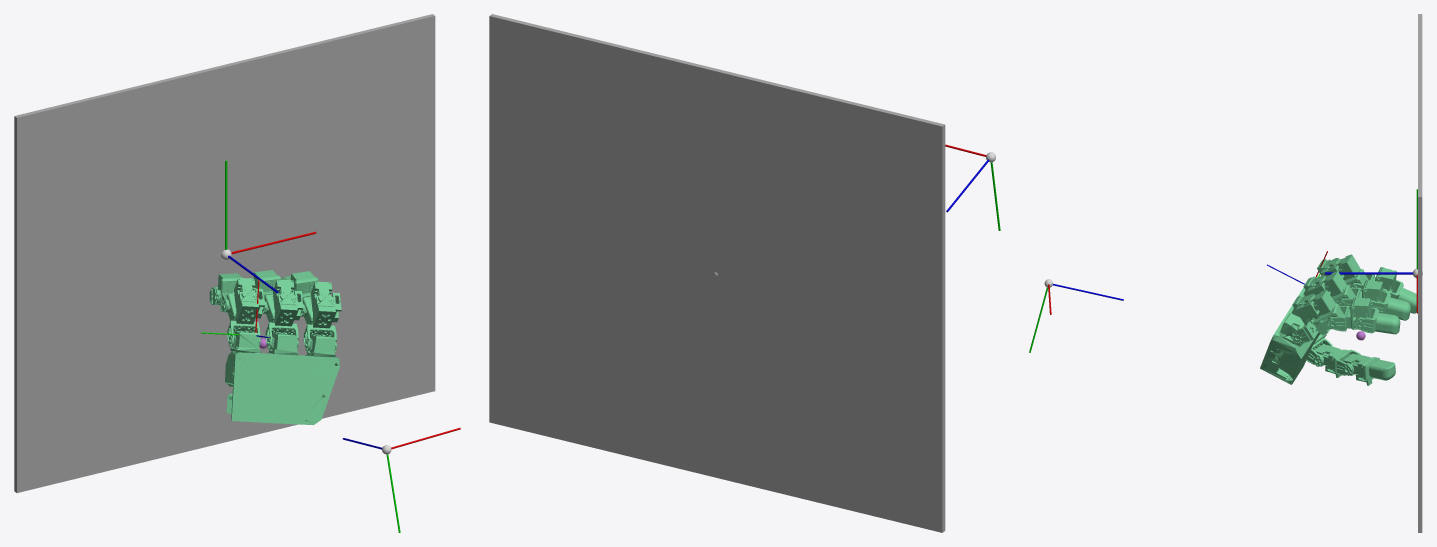
The model's file is prediction_view_0000.glb.
The picture shows the model from 3 angles, left to right: view 1: azimuth 30°, elevation 25°; view 2: azimuth 150°, elevation 25°; view 3: azimuth 270°, elevation 25°; orthographic projection. The views are drawn at different scales.
Visible parts, largest first — view 1: table_z_0, prediction_hand_base_link, prediction_mcp_joint_3, prediction_mcp_joint_2, prediction_mcp_joint, world_frame, camera_frame, prediction_dip, prediction_dip_3; view 2: table_z_0; view 3: table_z_0, prediction_hand_base_link, prediction_mcp_joint_3, prediction_thumb_fingertip, prediction_dip_3, prediction_thumb_dip, prediction_fingertip_3, prediction_mcp_joint_2, prediction_mcp_joint, prediction_fingertip_2, prediction_dip_2, world_frame (+1 smaller).
Boxes of the visible parts, x1,y1,x2,y2 form: table_z_0: [14, 14, 435, 492]; prediction_hand_base_link: [225, 332, 339, 425]; prediction_mcp_joint_3: [303, 281, 341, 351]; prediction_mcp_joint_2: [265, 279, 303, 349]; prediction_mcp_joint: [227, 278, 264, 347]; world_frame: [221, 160, 316, 293]; camera_frame: [342, 427, 460, 532]; prediction_dip: [218, 273, 243, 312]; prediction_dip_3: [290, 271, 318, 316]; table_z_0: [489, 14, 945, 532]; table_z_0: [1418, 14, 1422, 532]; prediction_hand_base_link: [1260, 276, 1319, 384]; prediction_mcp_joint_3: [1291, 289, 1335, 343]; prediction_thumb_fingertip: [1342, 353, 1395, 385]; prediction_dip_3: [1327, 297, 1371, 331]; prediction_thumb_dip: [1314, 344, 1360, 377]; prediction_fingertip_3: [1354, 307, 1400, 334]; prediction_mcp_joint_2: [1303, 271, 1346, 297]; prediction_mcp_joint: [1317, 254, 1360, 280]; prediction_fingertip_2: [1370, 291, 1410, 320]; prediction_dip_2: [1338, 280, 1382, 308]; world_frame: [1325, 189, 1422, 313].
Bounding box in the file's own units: 0.56 × 0.48 × 0.5098.
